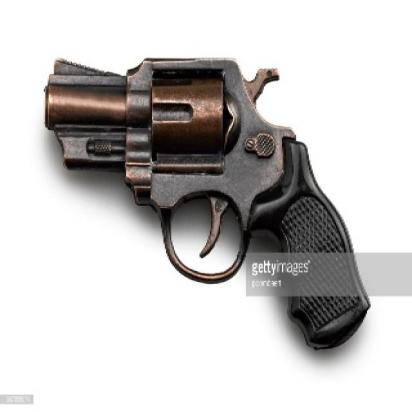Gun: (37, 49, 371, 349)
